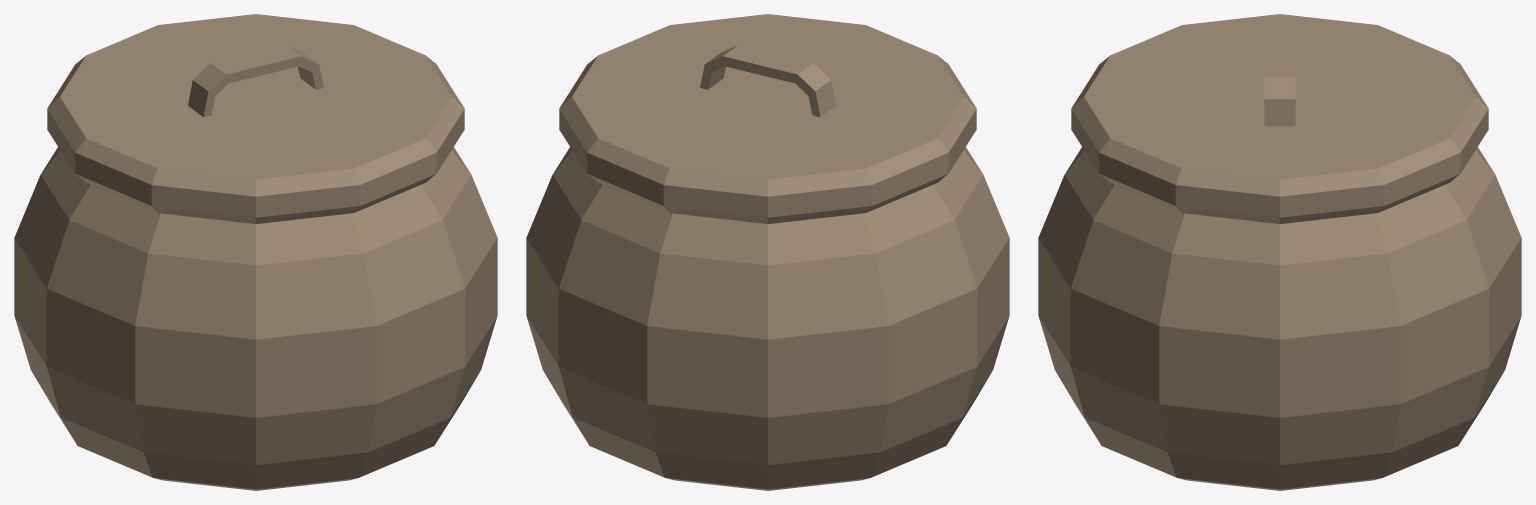
The model's file is Pot_4.fbx.
3 renders of one model, left to right at view 1: azimuth 30°, elevation 25°; view 2: azimuth 150°, elevation 25°; view 3: azimuth 270°, elevation 25°, orthographic.
Parts seen in each view (by area): view 1: Pot_4; view 2: Pot_4; view 3: Pot_4.
Boxes of the visible parts, x1=… form: Pot_4: x1=14, y1=14, x2=497, y2=490; Pot_4: x1=526, y1=14, x2=1009, y2=490; Pot_4: x1=1038, y1=14, x2=1521, y2=490.
Bounding box in the file's own units: 53.35 × 42.89 × 53.35.
